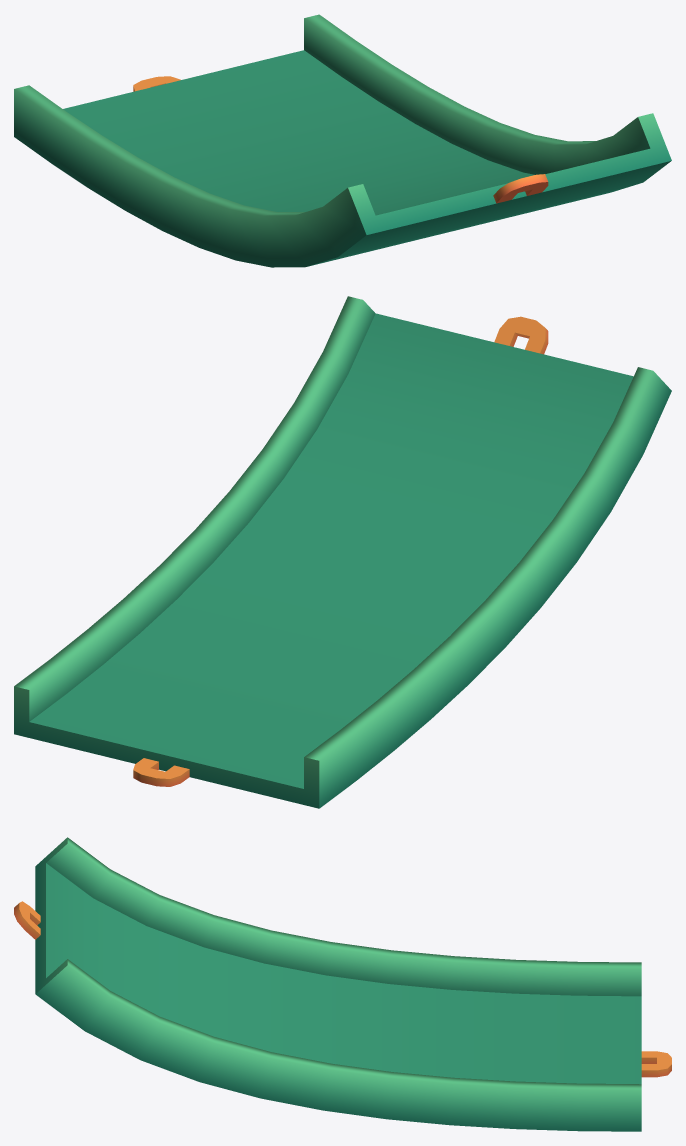
Rendered from track-wide-straight-hill-beginning.fbx.
3 renders of one model, top to bottom at view 1: azimuth 30°, elevation 25°; view 2: azimuth 150°, elevation 25°; view 3: azimuth 270°, elevation 25°, orthographic. The views are drawn at different scales.
Visible parts, largest first — view 1: track-wide-straight-hill-beginning; view 2: track-wide-straight-hill-beginning; view 3: track-wide-straight-hill-beginning.
Boxes of the visible parts, x1,y1,x2,y2 form: track-wide-straight-hill-beginning: (14,14,671,267); track-wide-straight-hill-beginning: (14,296,671,808); track-wide-straight-hill-beginning: (14,837,671,1131).
Bounding box in the file's own units: 200 × 121 × 434.
